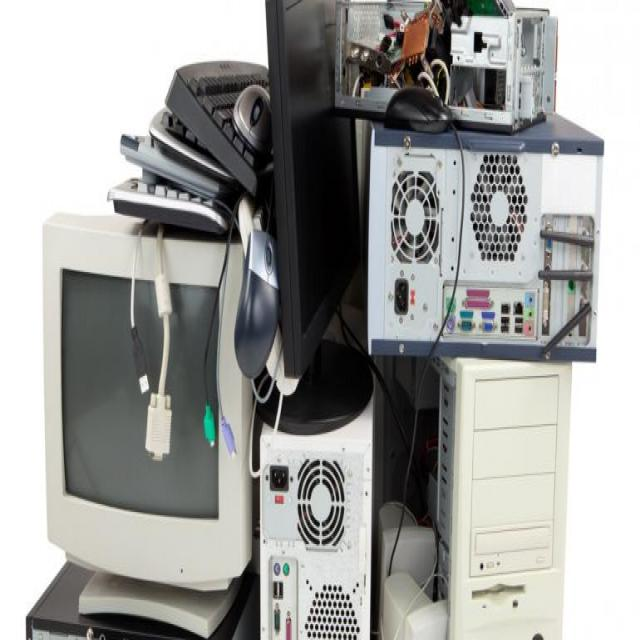heap: (100, 144, 596, 628)
